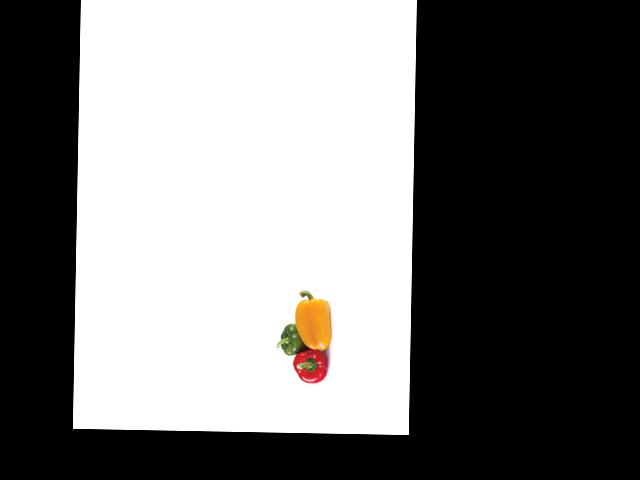bell_pepper: (276, 320, 309, 358)
